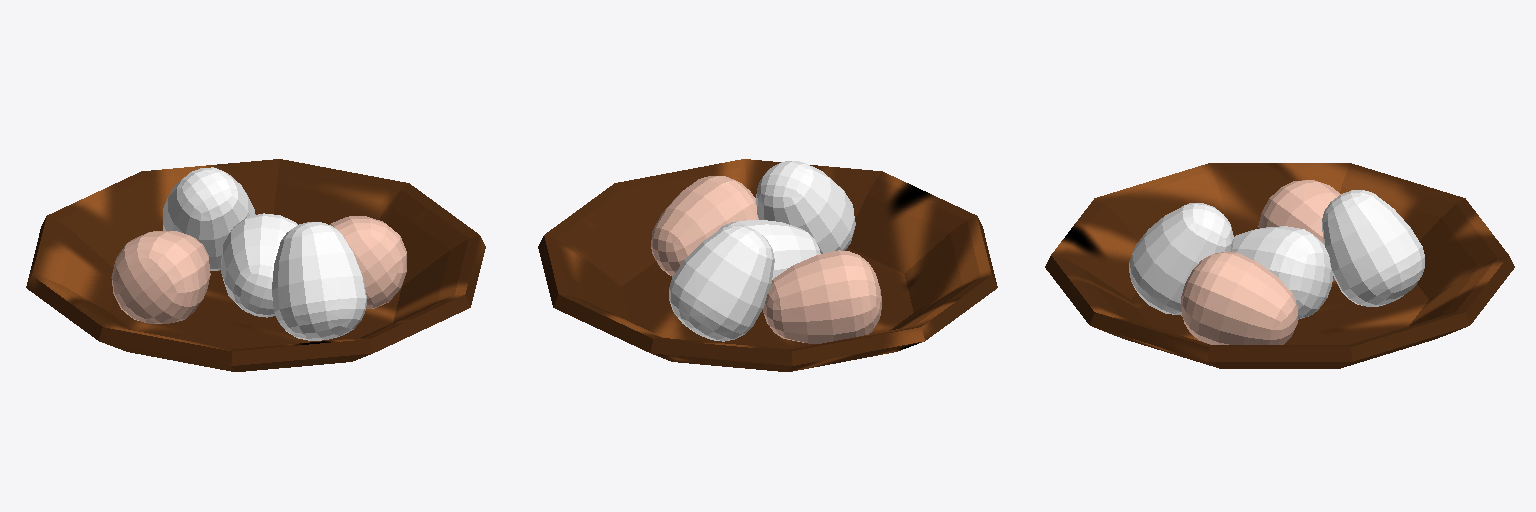
3 views of the same model, side by side, from view 1: azimuth 30°, elevation 25°; view 2: azimuth 150°, elevation 25°; view 3: azimuth 270°, elevation 25° (orthographic).
Visible parts, largest first — view 1: Egg_Whole_Cube.001; view 2: Egg_Whole_Cube.001; view 3: Egg_Whole_Cube.001.
Boxes of the visible parts, <box> form: Egg_Whole_Cube.001: <box>26,159,485,371</box>; Egg_Whole_Cube.001: <box>538,159,997,371</box>; Egg_Whole_Cube.001: <box>1045,163,1514,368</box>.
Bounding box in the file's own units: 1.74 × 0.5022 × 1.83.
1 materials, 1 textured.